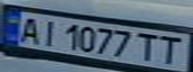0: (75, 24, 96, 54)
1: (57, 20, 81, 51)
7: (112, 27, 136, 60), (93, 25, 115, 56)
A: (15, 15, 45, 45)
I: (36, 17, 60, 47)
T: (154, 34, 190, 65), (133, 29, 163, 63)
